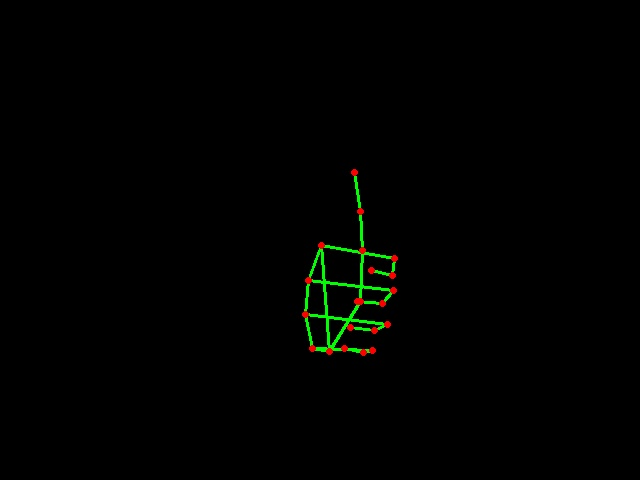fast: (299, 143, 406, 369)
